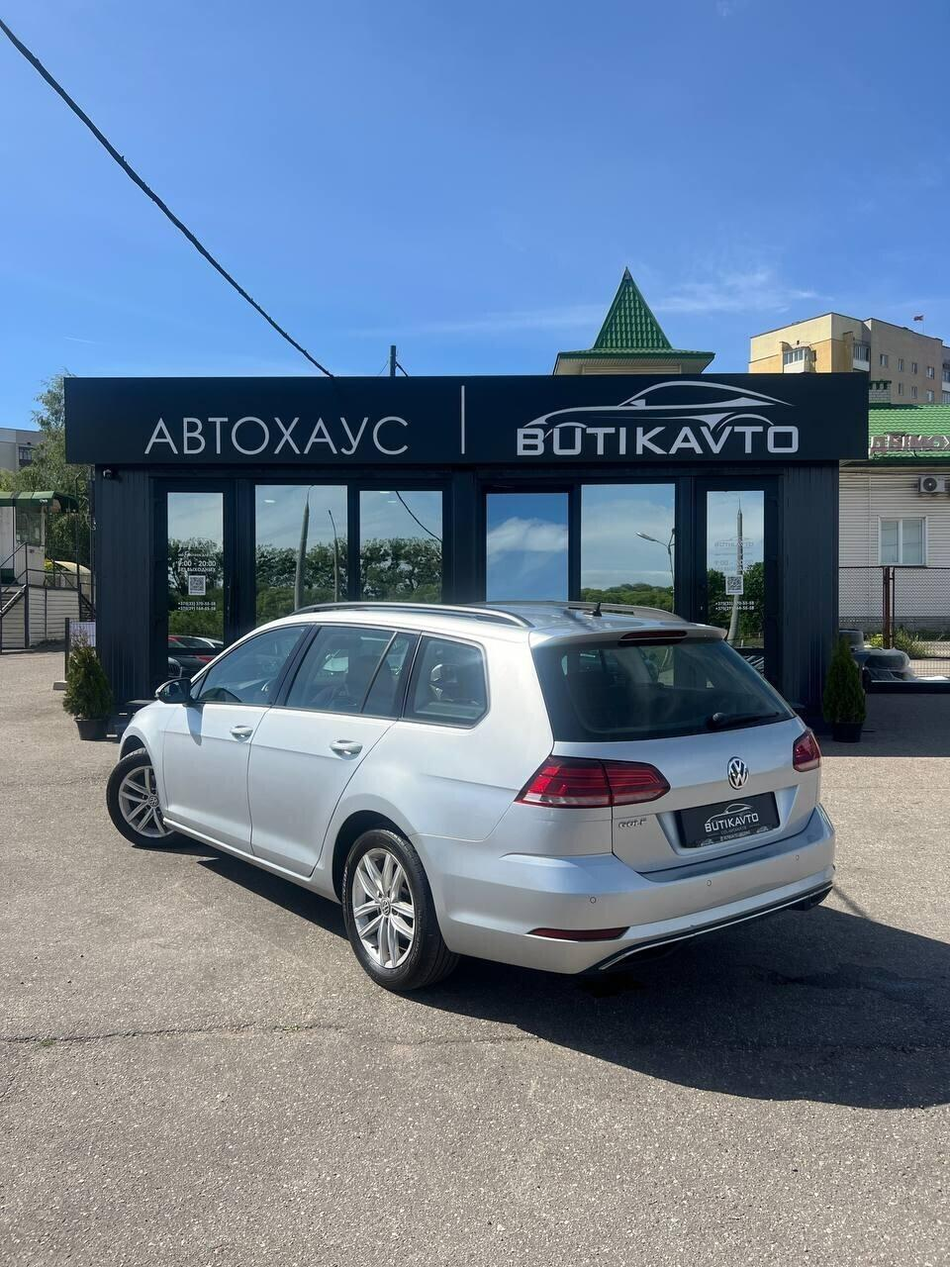Golf_2017-2021: (109, 587, 843, 998)
